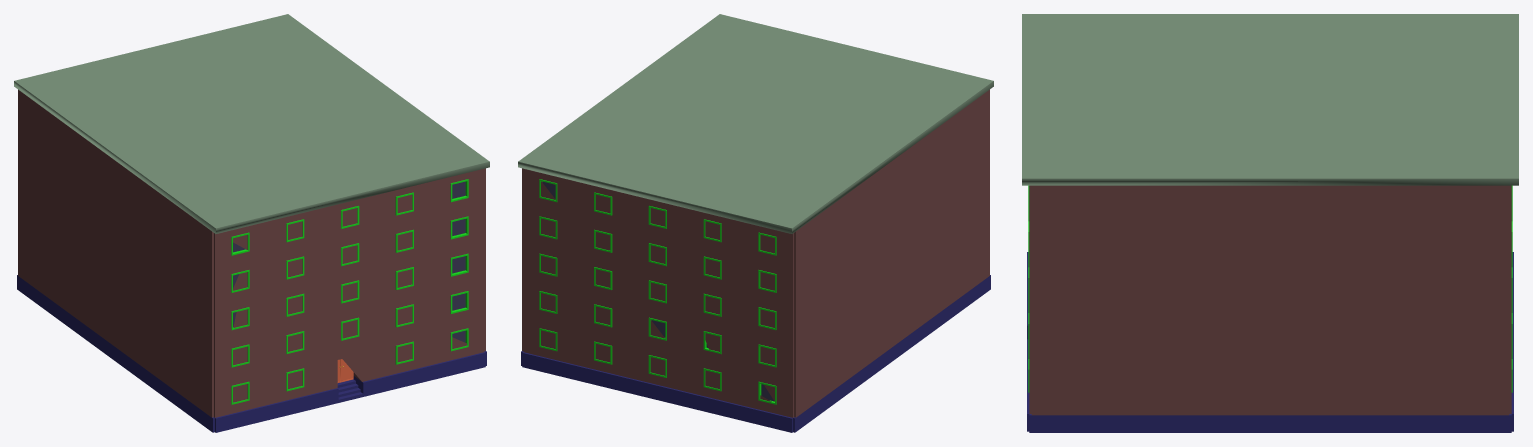
The picture shows the model from 3 angles, left to right: view 1: azimuth 30°, elevation 25°; view 2: azimuth 150°, elevation 25°; view 3: azimuth 270°, elevation 25°; orthographic projection. The views are drawn at different scales.
Parts seen in each view (by area): view 1: BR20_F05_01; view 2: BR20_F05_01; view 3: BR20_F05_01.
Part boxes in pixels (x1,y1,x2,y2): BR20_F05_01: (14, 14, 489, 432); BR20_F05_01: (518, 14, 993, 432); BR20_F05_01: (1022, 14, 1518, 432).
Bounding box in the file's own units: 2000 × 1440 × 2550.
